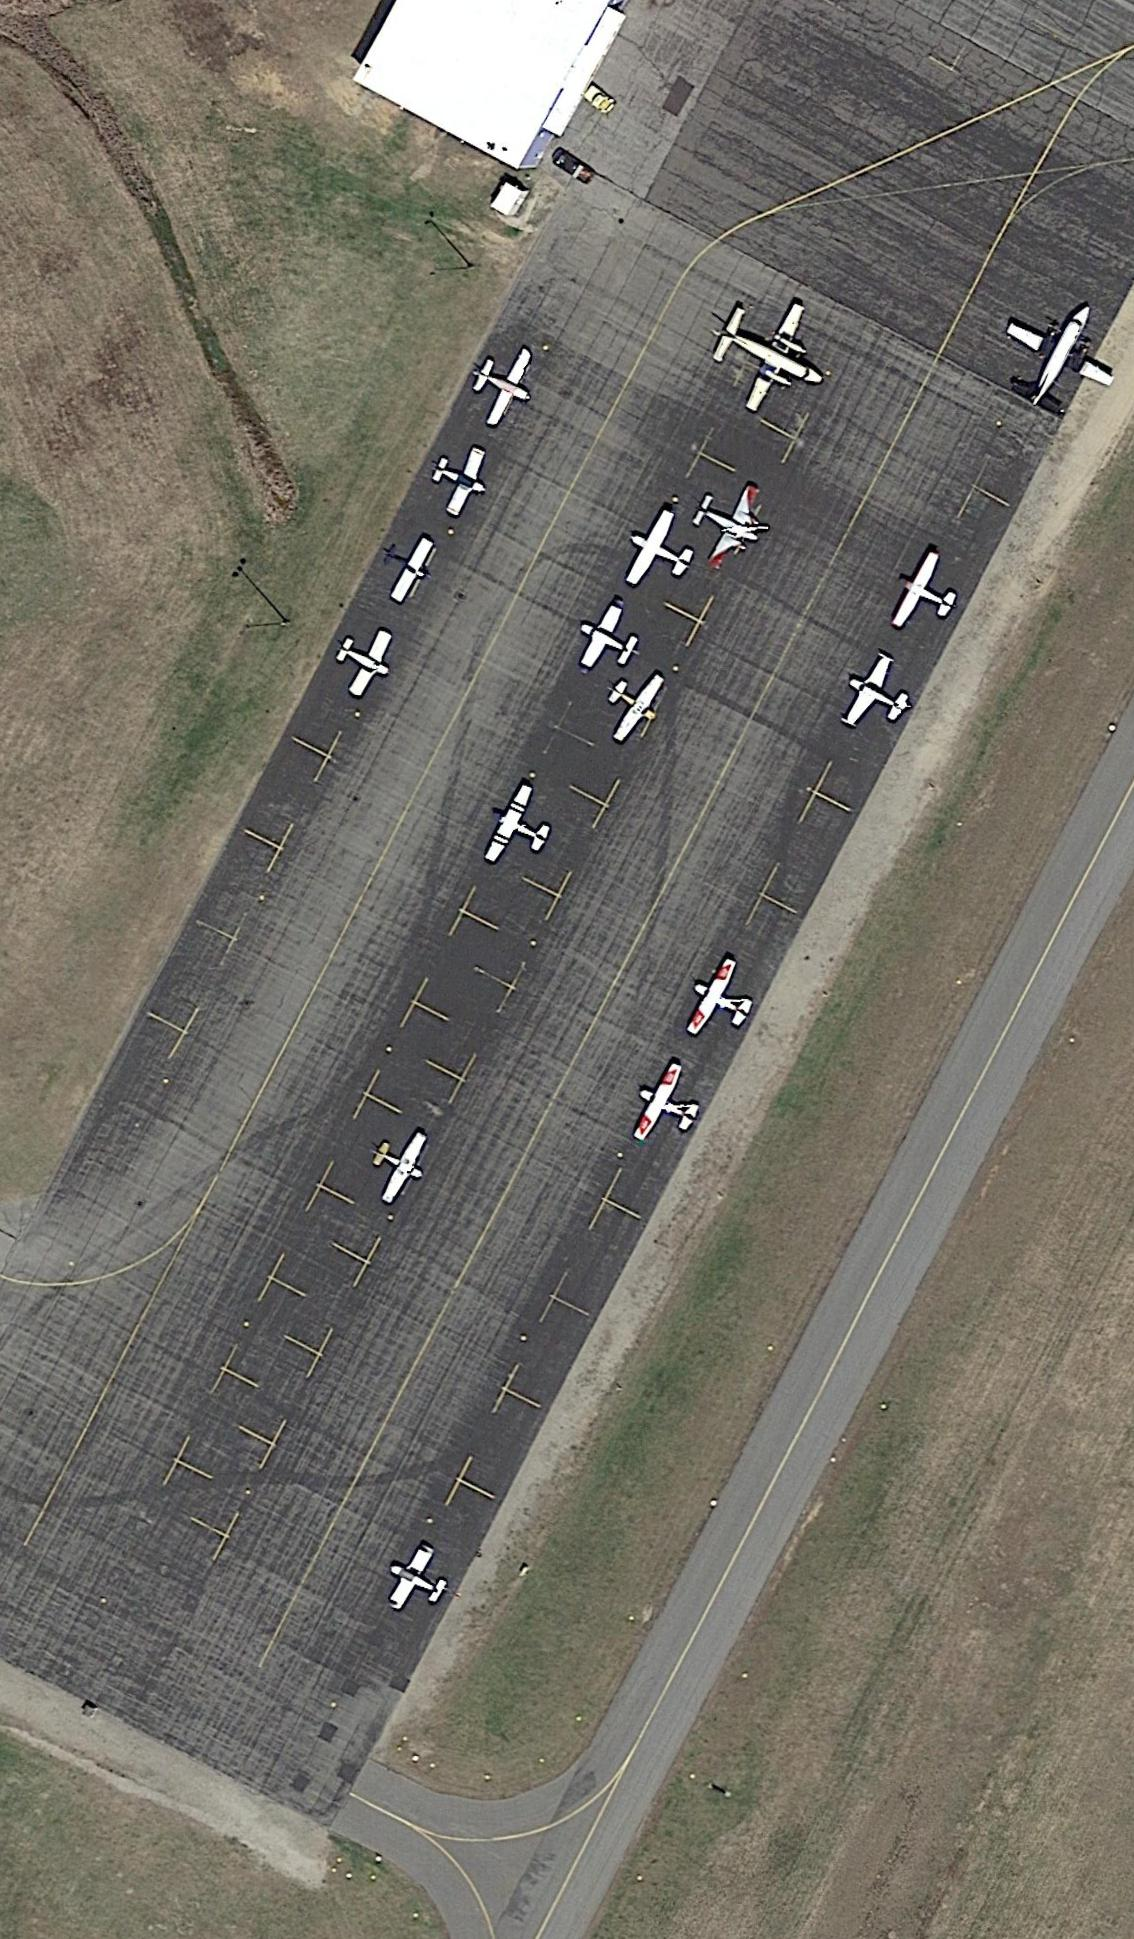plane: (687, 275, 853, 437), (983, 274, 1134, 434), (674, 466, 782, 584), (454, 332, 549, 440), (830, 645, 926, 752), (612, 499, 707, 606), (620, 1054, 714, 1160), (471, 776, 563, 882), (674, 950, 767, 1054), (880, 544, 971, 646), (589, 657, 675, 752), (566, 590, 651, 684), (356, 1119, 439, 1214), (374, 1536, 458, 1629), (418, 436, 500, 526), (363, 524, 443, 613), (324, 617, 404, 704)
